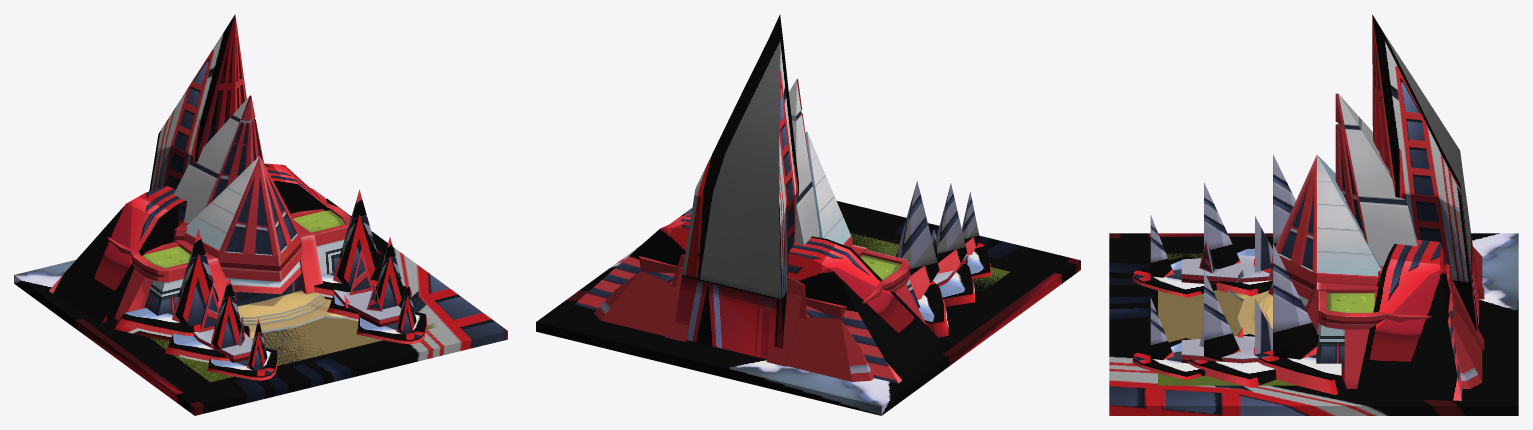
The model's file is RedClan.fbx.
The picture shows the model from 3 angles, left to right: view 1: azimuth 30°, elevation 25°; view 2: azimuth 150°, elevation 25°; view 3: azimuth 270°, elevation 25°; orthographic projection. The views are drawn at different scales.
Parts seen in each view (by area): view 1: pPlane1, pPyramid15, pCube4, pPyramid1, pCube19, pPyramid11, pPlane2, pCube17, polySurface5, pPyramid7, pPyramid10, polySurface6 (+9 smaller); view 2: pPyramid1, pPlane1, pCube4, pCube16, pCube13, pPyramid11, pCube3, pPyramid10, polySurface5, pPyramid15, pCube19, pCube8 (+2 smaller); view 3: pPlane1, pPyramid1, pCube3, pPyramid15, pPyramid7, polySurface5, pCube17, pPlane2, pPyramid8, polySurface11, pCube13, pPyramid10 (+6 smaller).
Boxes of the visible parts, bbox=[...] form: pPlane1: bbox=[14, 198, 507, 415]; pPyramid15: bbox=[184, 156, 301, 281]; pCube4: bbox=[49, 185, 187, 323]; pPyramid1: bbox=[149, 14, 246, 191]; pCube19: bbox=[114, 240, 226, 320]; pPyramid11: bbox=[115, 229, 219, 341]; pPlane2: bbox=[151, 304, 437, 382]; pCube17: bbox=[293, 202, 350, 293]; polySurface5: bbox=[174, 96, 264, 223]; pPyramid7: bbox=[314, 190, 384, 299]; pPyramid10: bbox=[165, 276, 250, 362]; polySurface6: bbox=[172, 95, 263, 242]; pPyramid1: bbox=[675, 14, 798, 359]; pPlane1: bbox=[536, 201, 1080, 415]; pCube4: bbox=[788, 236, 944, 383]; pCube16: bbox=[766, 281, 882, 381]; pCube13: bbox=[594, 256, 687, 341]; pPyramid11: bbox=[895, 181, 948, 337]; pCube3: bbox=[574, 215, 691, 310]; pPyramid10: bbox=[934, 183, 975, 306]; polySurface5: bbox=[789, 80, 819, 245]; pPyramid15: bbox=[805, 131, 852, 247]; pCube19: bbox=[850, 244, 926, 325]; pCube8: bbox=[962, 192, 991, 278]; pPlane1: bbox=[1109, 233, 1518, 415]; pPyramid1: bbox=[1372, 14, 1478, 331]; pCube3: bbox=[1355, 239, 1462, 400]; pPyramid15: bbox=[1268, 155, 1381, 299]; pPyramid7: bbox=[1254, 243, 1347, 394]; polySurface5: bbox=[1338, 94, 1417, 266]; pCube17: bbox=[1305, 282, 1390, 388]; pPlane2: bbox=[1158, 253, 1296, 385]; pPyramid8: bbox=[1188, 271, 1276, 387]; polySurface11: bbox=[1181, 216, 1272, 284]; pCube13: bbox=[1372, 282, 1484, 388]; pPyramid10: bbox=[1204, 182, 1272, 296].
Size of the model in its own units: 105 by 89.62 by 105.
3 materials, 3 textured.
